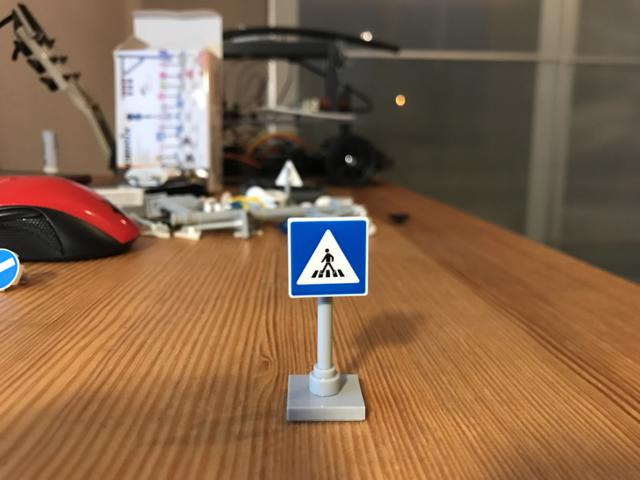fußgängerüberweg: (287, 215, 371, 301)
